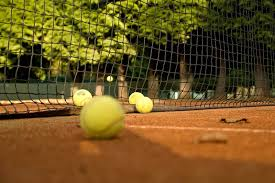tennis_ball: (80, 96, 124, 139), (73, 89, 92, 107), (136, 97, 153, 114), (128, 91, 144, 107)
